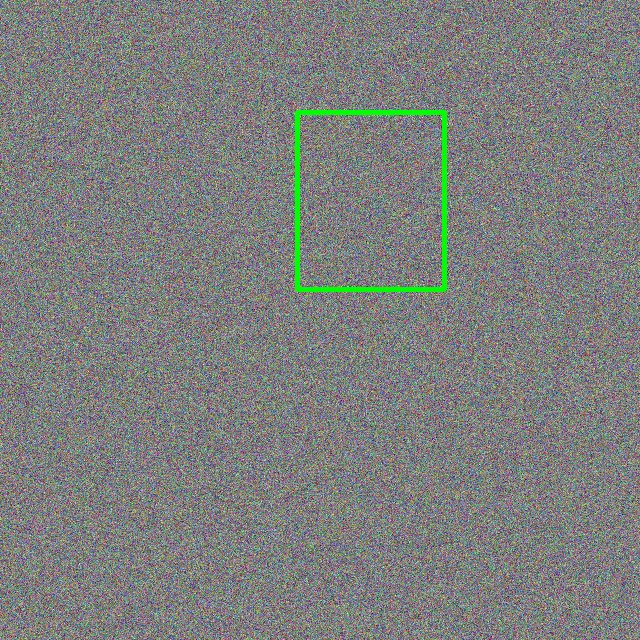base: (297, 112, 444, 289)
